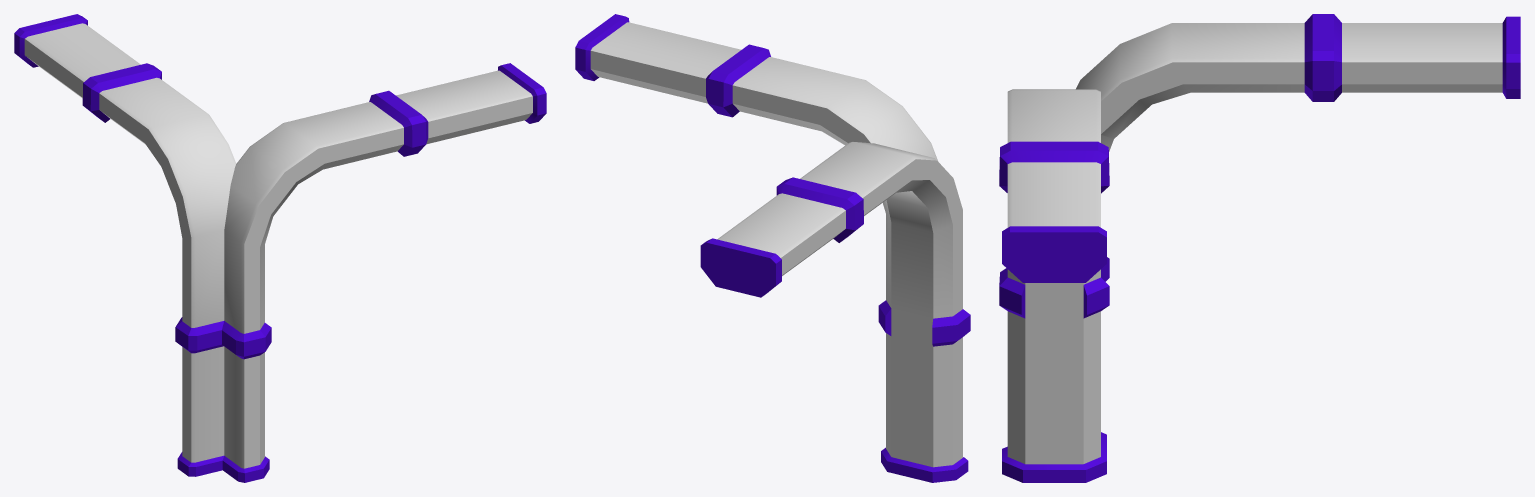
File: BarrierFrame_T_Corner.FBX
3 views of the same model, side by side, from view 1: azimuth 30°, elevation 25°; view 2: azimuth 150°, elevation 25°; view 3: azimuth 270°, elevation 25° (orthographic). The views are drawn at different scales.
Parts seen in each view (by area): view 1: BarrierFrame_T_Corner; view 2: BarrierFrame_T_Corner; view 3: BarrierFrame_T_Corner.
Boxes of the visible parts, x1,y1,x2,y2 form: BarrierFrame_T_Corner: (14,14,546,482); BarrierFrame_T_Corner: (575,14,970,482); BarrierFrame_T_Corner: (999,14,1520,482).
Size of the model in its own units: 224 by 203 by 224.
